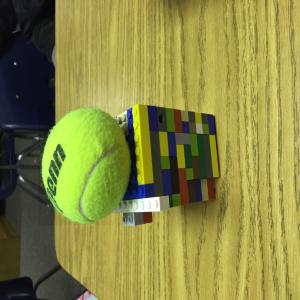TennisBall: (39, 107, 132, 227)
